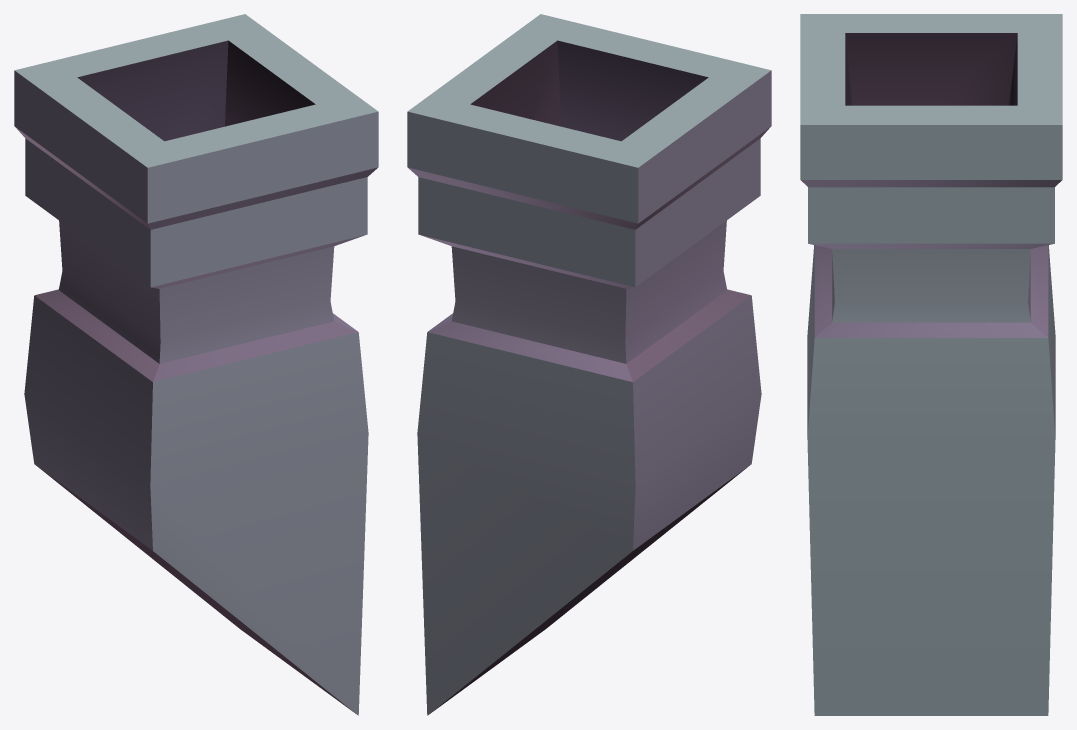
The model's file is Chimney02_Grey.glb.
3 renders of one model, left to right at view 1: azimuth 30°, elevation 25°; view 2: azimuth 150°, elevation 25°; view 3: azimuth 270°, elevation 25°, orthographic.
Parts seen in each view (by area): view 1: Chimney02_Grey; view 2: Chimney02_Grey; view 3: Chimney02_Grey.
Part boxes in pixels (bbox=[...]): Chimney02_Grey: bbox=[14, 14, 378, 715]; Chimney02_Grey: bbox=[407, 14, 771, 715]; Chimney02_Grey: bbox=[800, 14, 1062, 715].
Bounding box in the file's own units: 0.5019 × 1.26 × 0.5019.
Materials: 1 (1 with a texture image).
